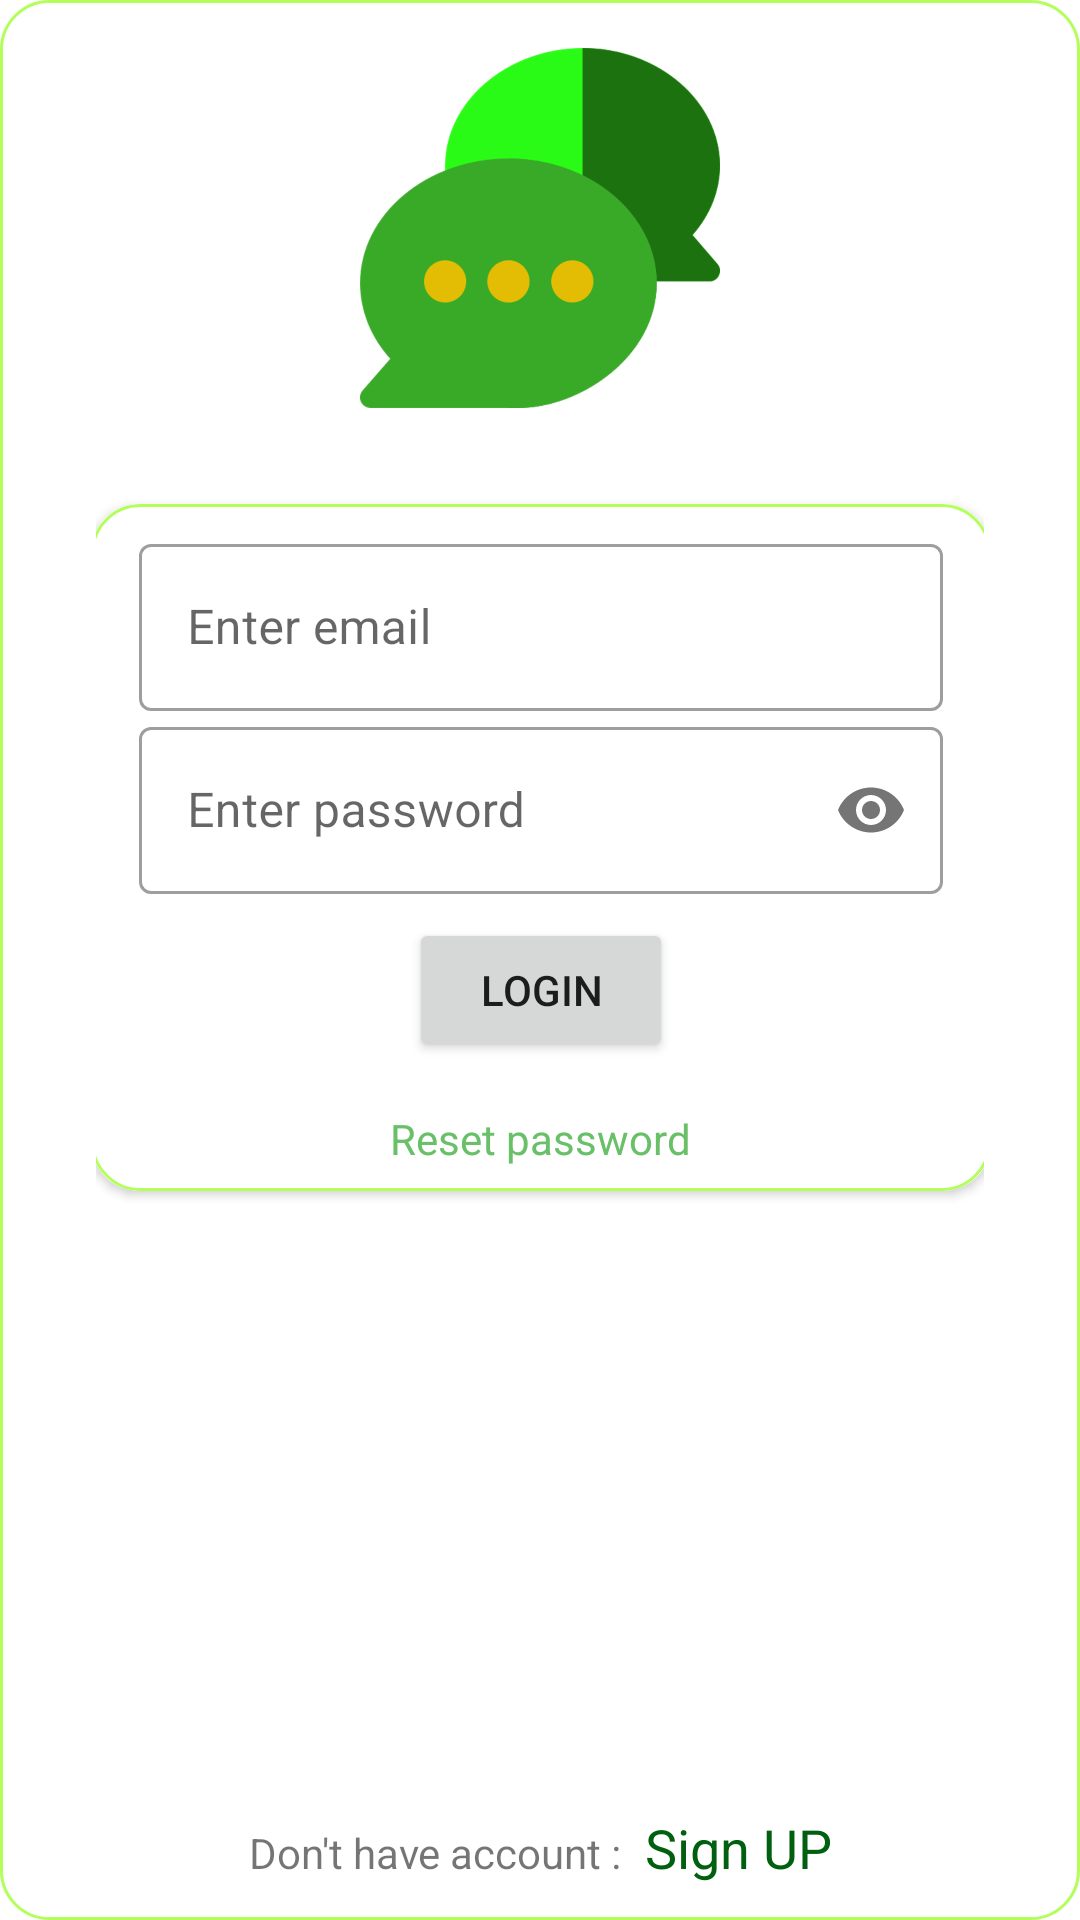

Icon bounding boxes for this 1080px×1920px phone screenshot, format (x1, y1, x2, y2):
chat: (360, 48, 720, 408)
